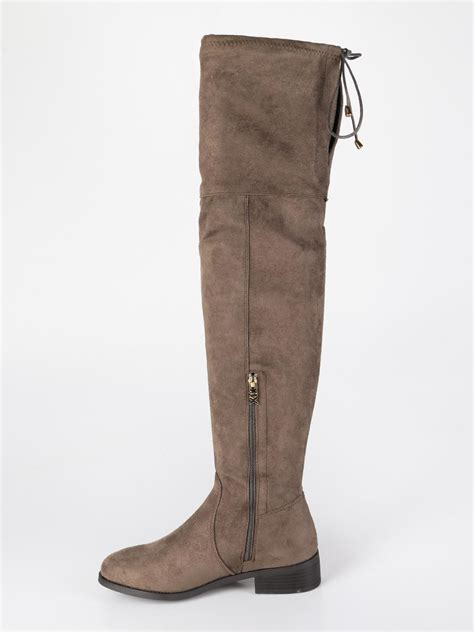gamuza: (100, 33, 342, 592)
